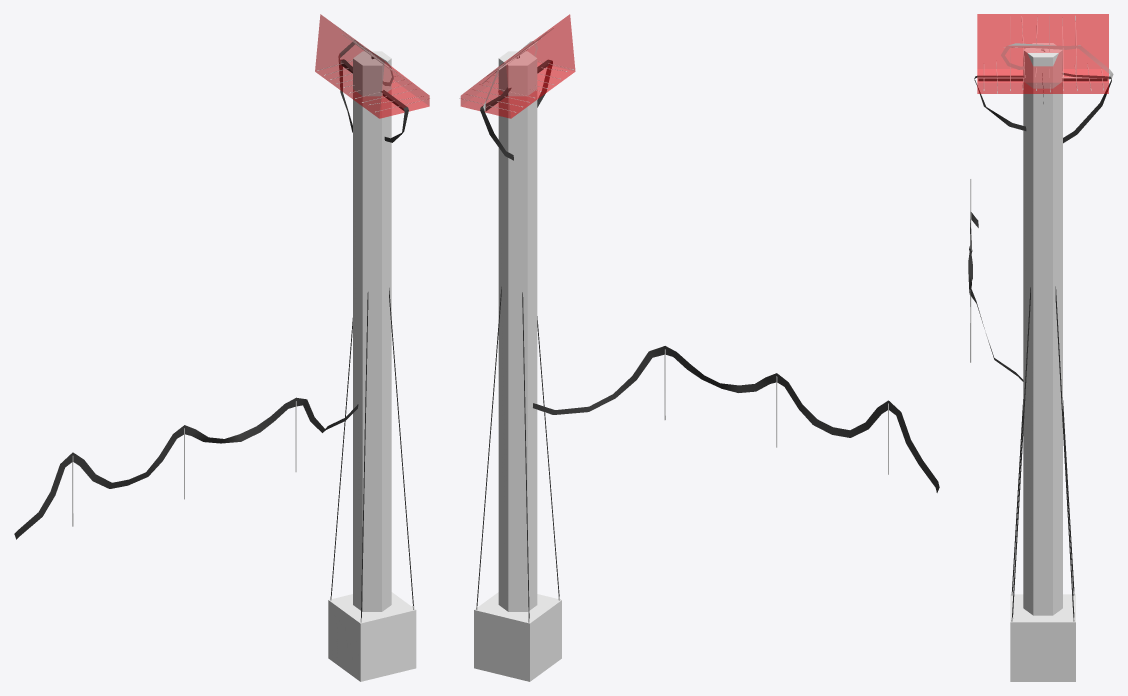
File: airport_antenna.dae
The picture shows the model from 3 angles, left to right: view 1: azimuth 30°, elevation 25°; view 2: azimuth 150°, elevation 25°; view 3: azimuth 270°, elevation 25°; orthographic projection. The views are drawn at different scales.
Visible parts, largest first — view 1: Colmesh-1, airport_antenna_a600, airport_antenna_a100; view 2: Colmesh-1, airport_antenna_a600, airport_antenna_a100; view 3: Colmesh-1, airport_antenna_a600, airport_antenna_a100.
Part boxes in pixels (x1=…): Colmesh-1: x1=315, y1=14, x2=429, y2=611; airport_antenna_a600: x1=14, y1=40, x2=430, y2=681; airport_antenna_a100: x1=317, y1=26, x2=430, y2=681; Colmesh-1: x1=460, y1=14, x2=575, y2=611; airport_antenna_a600: x1=459, y1=28, x2=939, y2=681; airport_antenna_a100: x1=459, y1=28, x2=573, y2=681; Colmesh-1: x1=977, y1=14, x2=1108, y2=615; airport_antenna_a600: x1=968, y1=15, x2=1113, y2=681; airport_antenna_a100: x1=983, y1=53, x2=1103, y2=681.
Size of the model in its own units: 7.51 by 2.2 by 10.8.
